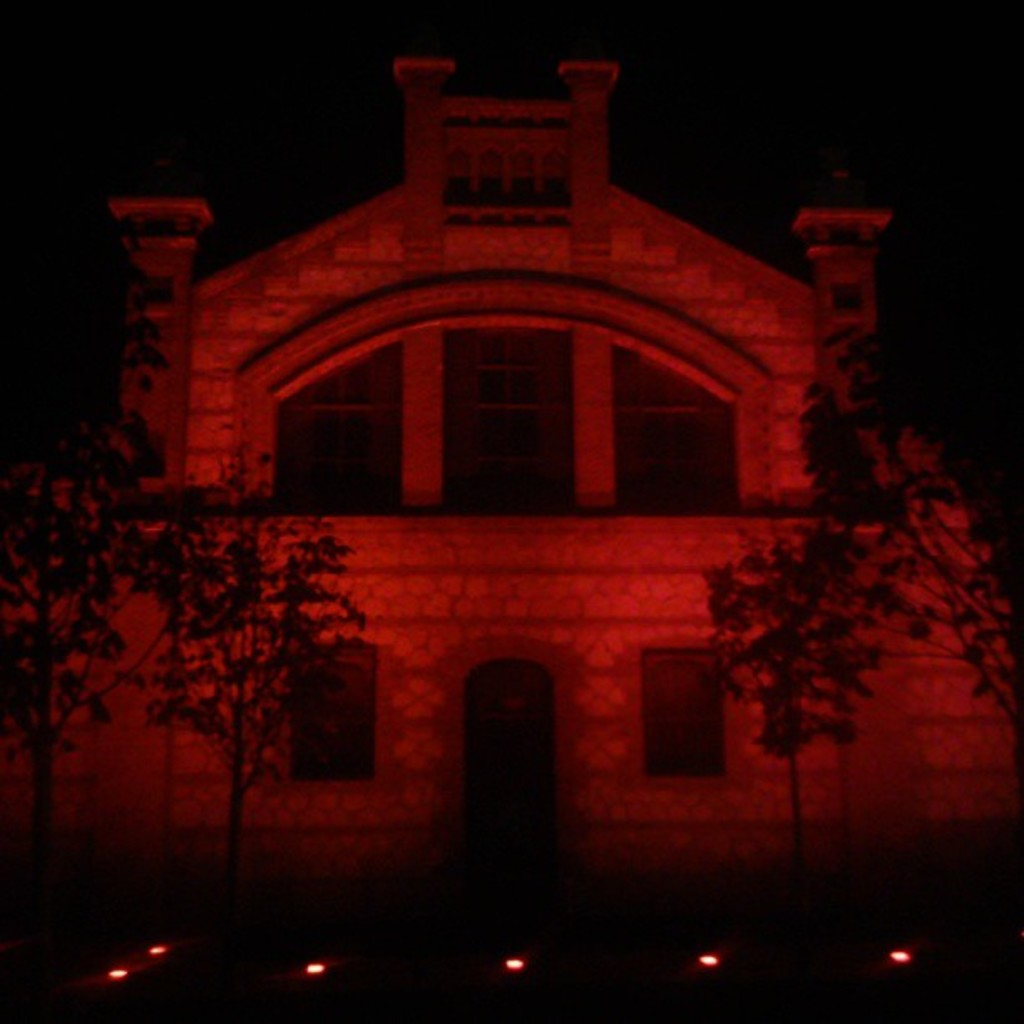Tree: (6, 71, 199, 970), (761, 105, 1012, 747), (127, 436, 403, 975), (699, 532, 896, 903)
